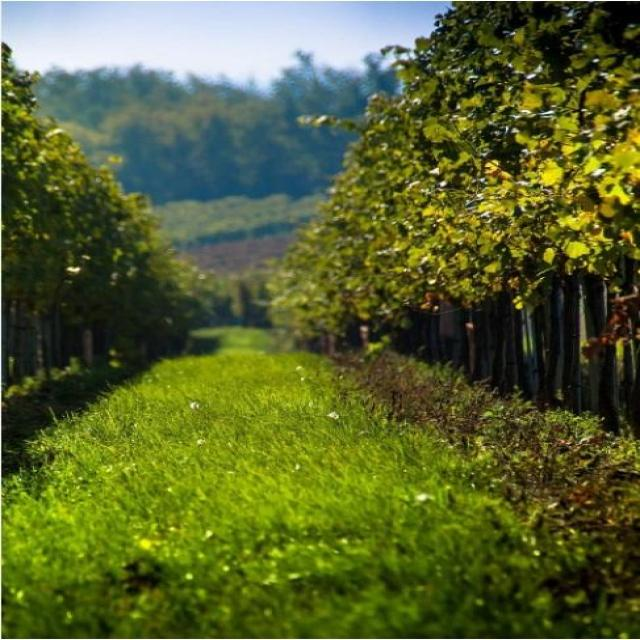row: (5, 323, 640, 637)
